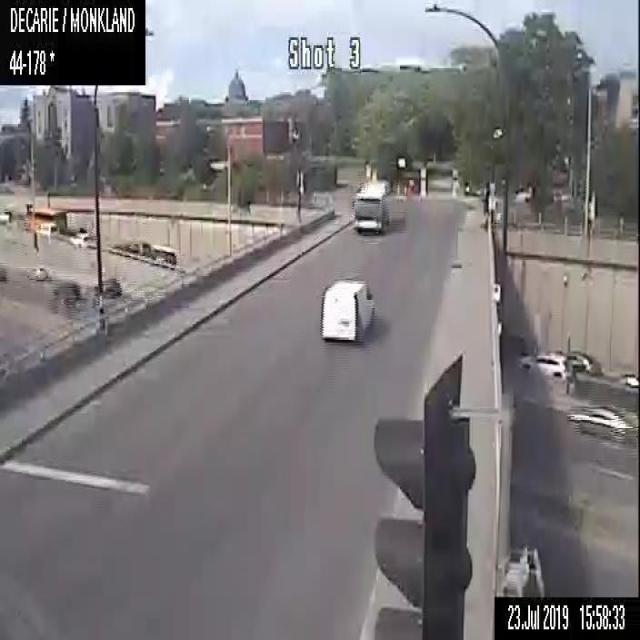bus: (352, 177, 393, 232), (28, 205, 66, 232)
vehicle: (318, 276, 376, 340), (566, 405, 636, 444), (519, 346, 575, 381), (552, 348, 599, 374), (56, 279, 81, 297), (101, 276, 122, 296), (70, 231, 96, 247), (26, 264, 46, 280), (0, 208, 11, 224), (0, 261, 7, 281)
